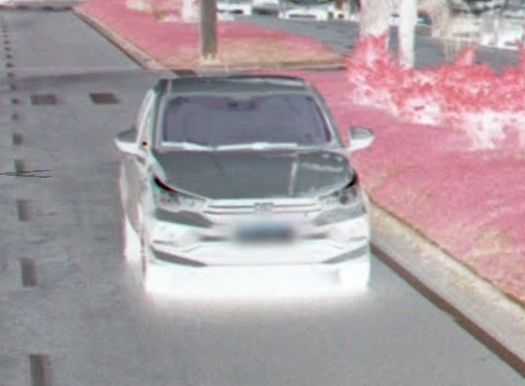car: (107, 54, 381, 303)
